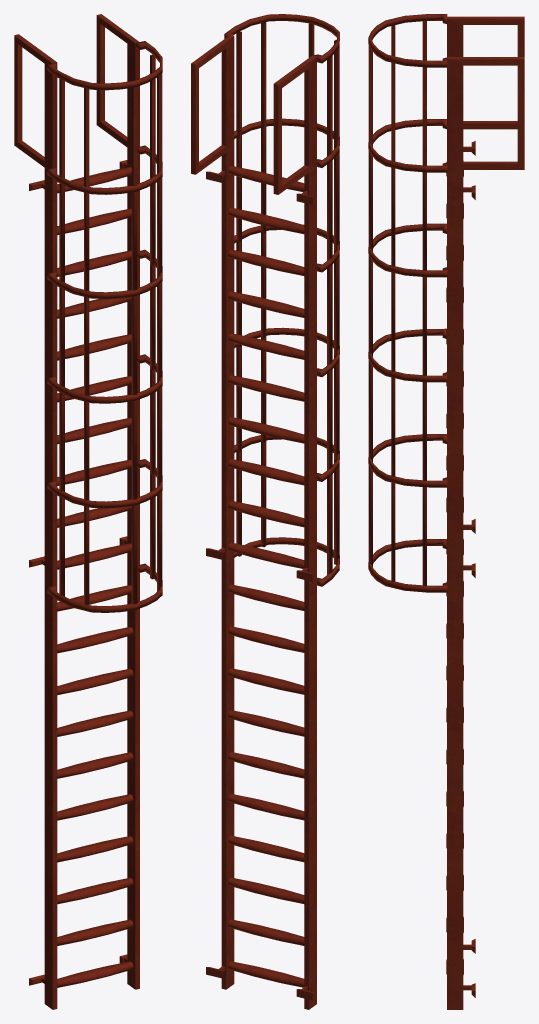
Rendered from EscadaComProtecao.fbx.
The picture shows the model from 3 angles, left to right: view 1: azimuth 30°, elevation 25°; view 2: azimuth 150°, elevation 25°; view 3: azimuth 270°, elevation 25°; orthographic projection.
Parts seen in each view (by area): view 1: Escada, Protecao.001, ProtecaoFim; view 2: Escada, Protecao.001, ProtecaoFim; view 3: Escada, Protecao.001, ProtecaoFim.
Part boxes in pixels (x1,y1,x2,y2): Escada: (29, 148, 139, 1009); Protecao.001: (47, 160, 162, 612); ProtecaoFim: (14, 14, 162, 194); Escada: (206, 147, 316, 1009); Protecao.001: (234, 127, 339, 586); ProtecaoFim: (191, 14, 339, 204); Escada: (446, 161, 475, 1009); Protecao.001: (368, 150, 447, 592); ProtecaoFim: (368, 14, 524, 199).
Size of the model in its own units: 53.4 by 453 by 67.57.
